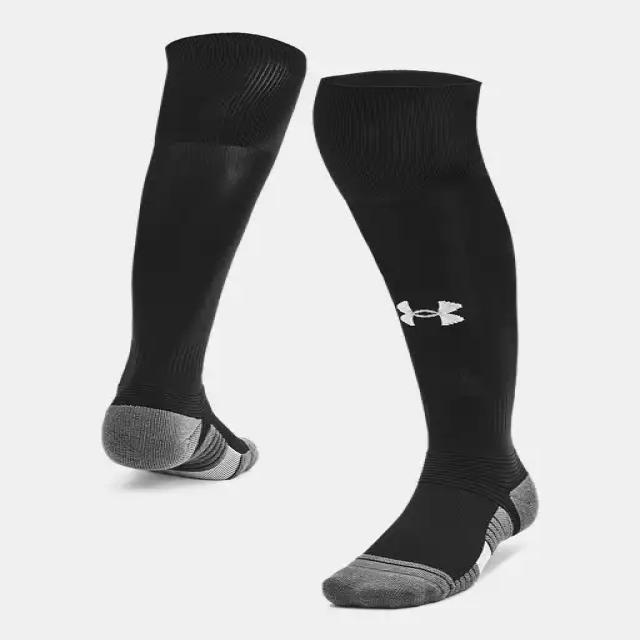sock: (311, 68, 539, 609), (100, 31, 306, 480)
